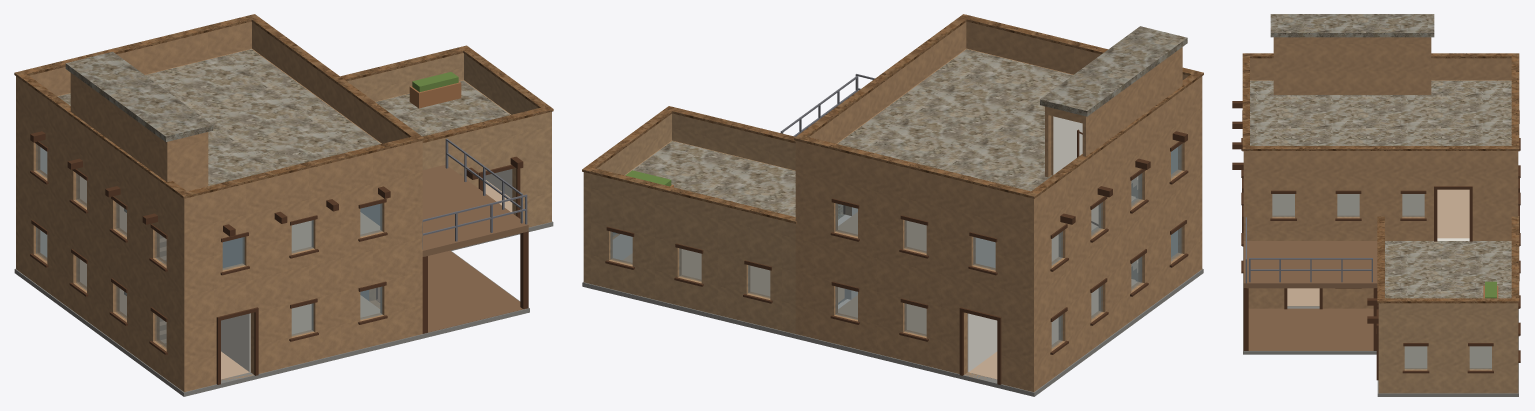
Rendered from cr-adobe-courtyard.towns-v1.lod0.glb.
The picture shows the model from 3 angles, left to right: view 1: azimuth 30°, elevation 25°; view 2: azimuth 150°, elevation 25°; view 3: azimuth 270°, elevation 25°; orthographic projection. The views are drawn at different scales.
Visible parts, largest first — view 1: cr-adobe-courtyard; view 2: cr-adobe-courtyard; view 3: cr-adobe-courtyard.
Part boxes in pixels (box(x1,y1,x2,y2)): cr-adobe-courtyard: box(14, 14, 553, 396); cr-adobe-courtyard: box(582, 14, 1203, 396); cr-adobe-courtyard: box(1232, 14, 1520, 396).
Size of the model in its own units: 17.54 by 8.95 by 11.54.
Materials: 6 (2 with a texture image).
